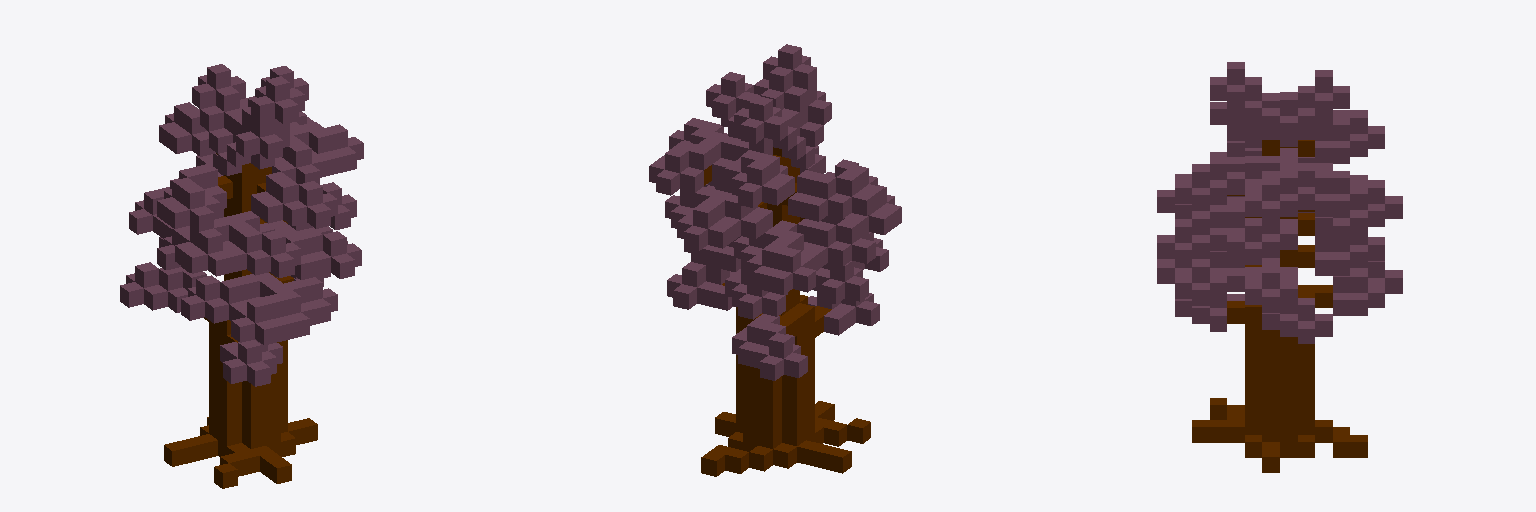
3 views of the same model, side by side, from view 1: azimuth 30°, elevation 25°; view 2: azimuth 150°, elevation 25°; view 3: azimuth 270°, elevation 25° (orthographic).
Size of the model in its own units: 13 by 24 by 14.
Materials: 1 (1 with a texture image).